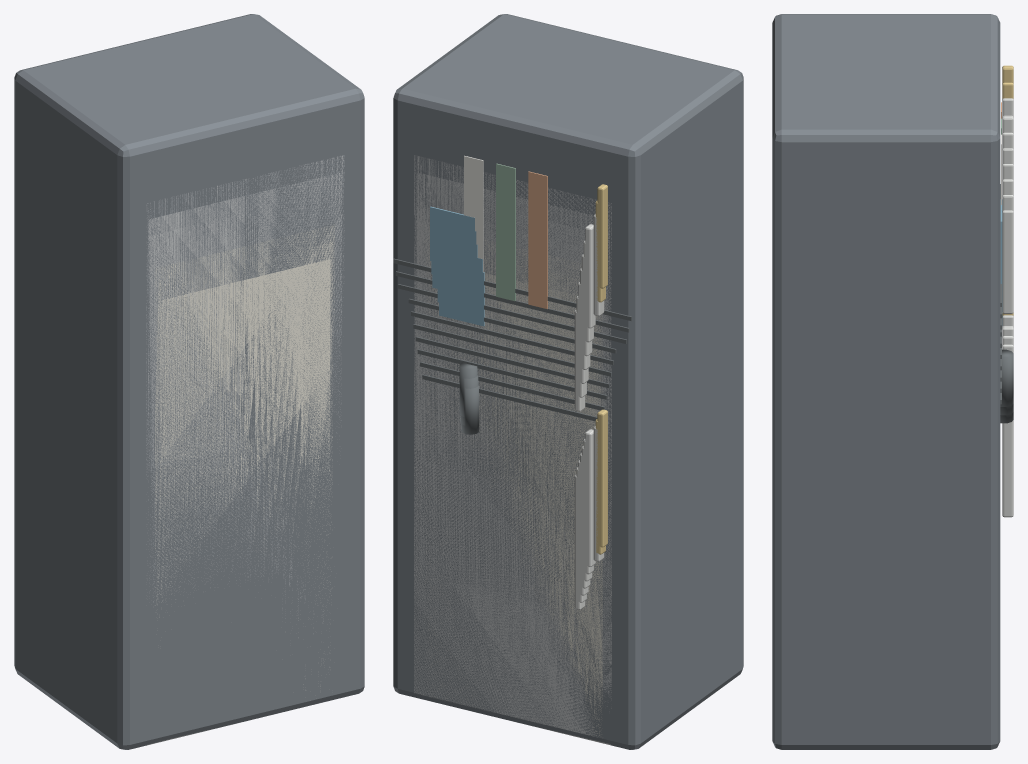
The model's file is Gear10.fbx.
3 views of the same model, side by side, from view 1: azimuth 30°, elevation 25°; view 2: azimuth 150°, elevation 25°; view 3: azimuth 270°, elevation 25° (orthographic). The views are drawn at different scales.
Visible parts, largest first — view 1: Gear10_V10_Graphite, Gear10_V9_Graphite, Gear10_V1_Ivory, Gear10_V6_BrushedSteel, Gear10_V5_BrushedSteel, Gear10_V3_Ivory, Gear10_V4_BrushedSteel, Gear10_V8_Graphite, Gear10_V2_Ivory, Gear10_V7_BrushedSteel; view 2: Gear10_V10_Graphite, Gear10_V7_BrushedSteel, Gear10_V9_Graphite, Gear10_V3_Ivory, Gear10_V8_Graphite, Gear10_V6_BrushedSteel, Gear10_V4_BrushedSteel, Gear10_V1_Ivory, Gear10_V5_BrushedSteel, Gear10_V10_Brass, Gear10_V6_ScreenUI, Gear10_V10_ScreenUI (+22 smaller); view 3: Gear10_V10_Graphite, Gear10_V1_Chrome, Gear10_V10_Charcoal.
Boxes of the visible parts, x1,y1,x2,y2 form: Gear10_V10_Graphite: [14, 14, 364, 749]; Gear10_V9_Graphite: [132, 118, 357, 744]; Gear10_V1_Ivory: [160, 259, 330, 686]; Gear10_V6_BrushedSteel: [147, 172, 341, 745]; Gear10_V5_BrushedSteel: [150, 208, 330, 633]; Gear10_V3_Ivory: [155, 224, 334, 617]; Gear10_V4_BrushedSteel: [153, 208, 337, 602]; Gear10_V8_Graphite: [135, 136, 355, 678]; Gear10_V2_Ivory: [157, 242, 332, 582]; Gear10_V7_BrushedSteel: [146, 155, 344, 578]; Gear10_V10_Graphite: [393, 14, 743, 749]; Gear10_V7_BrushedSteel: [414, 155, 611, 736]; Gear10_V9_Graphite: [400, 118, 625, 744]; Gear10_V3_Ivory: [424, 225, 602, 736]; Gear10_V8_Graphite: [402, 136, 623, 744]; Gear10_V6_BrushedSteel: [416, 172, 610, 745]; Gear10_V4_BrushedSteel: [421, 207, 604, 586]; Gear10_V1_Ivory: [428, 273, 597, 680]; Gear10_V5_BrushedSteel: [418, 190, 607, 572]; Gear10_V10_Brass: [597, 184, 607, 547]; Gear10_V6_ScreenUI: [439, 263, 484, 326]; Gear10_V10_ScreenUI: [430, 206, 474, 271]; Gear10_V10_Graphite: [772, 14, 1000, 749]; Gear10_V1_Chrome: [1002, 210, 1013, 517]; Gear10_V10_Charcoal: [1000, 184, 1013, 406].
Size of the model in its own units: 76.73 by 180 by 63.5.
